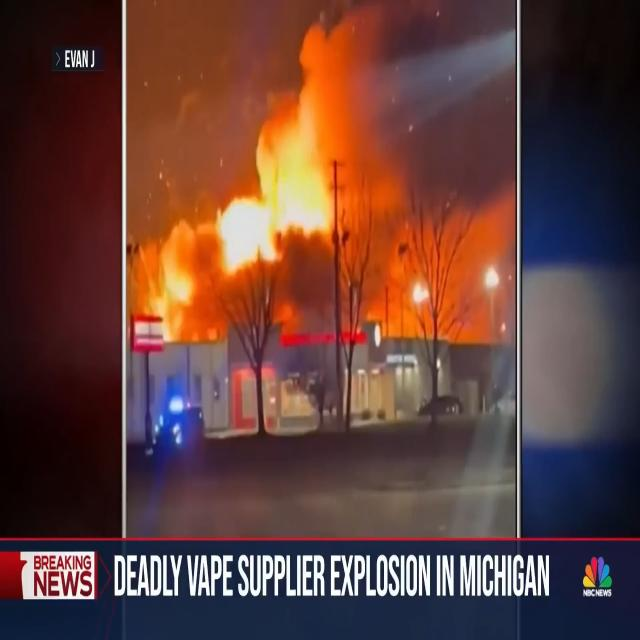fire: (164, 7, 463, 322)
